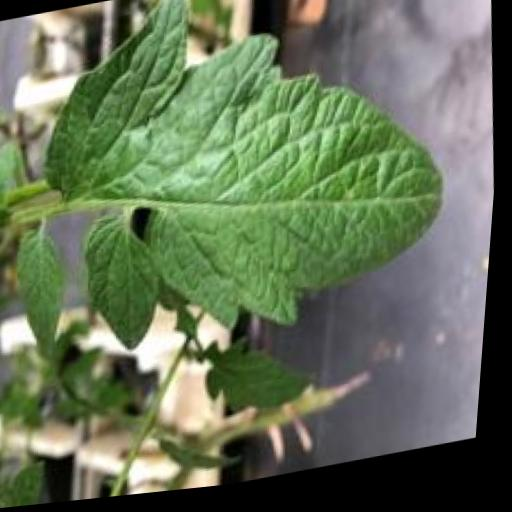Healthy: (16, 0, 470, 380), (7, 223, 80, 360)
